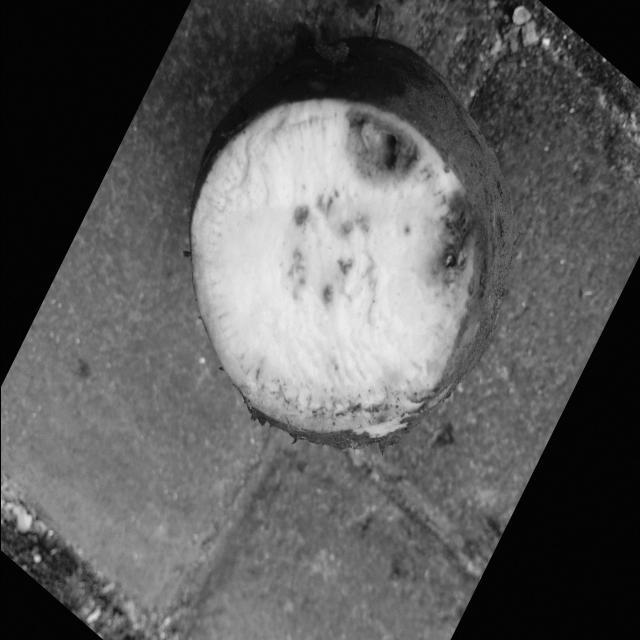Sick Sweet Potato_Tuber Rot: (190, 98, 472, 438)
